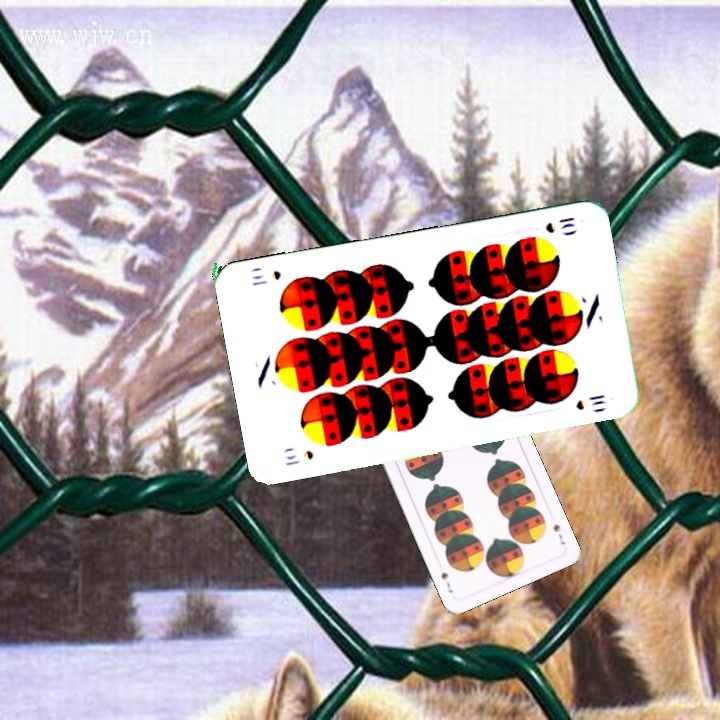S10: (541, 213, 577, 236), (281, 446, 316, 468)
S7: (549, 519, 568, 547)
